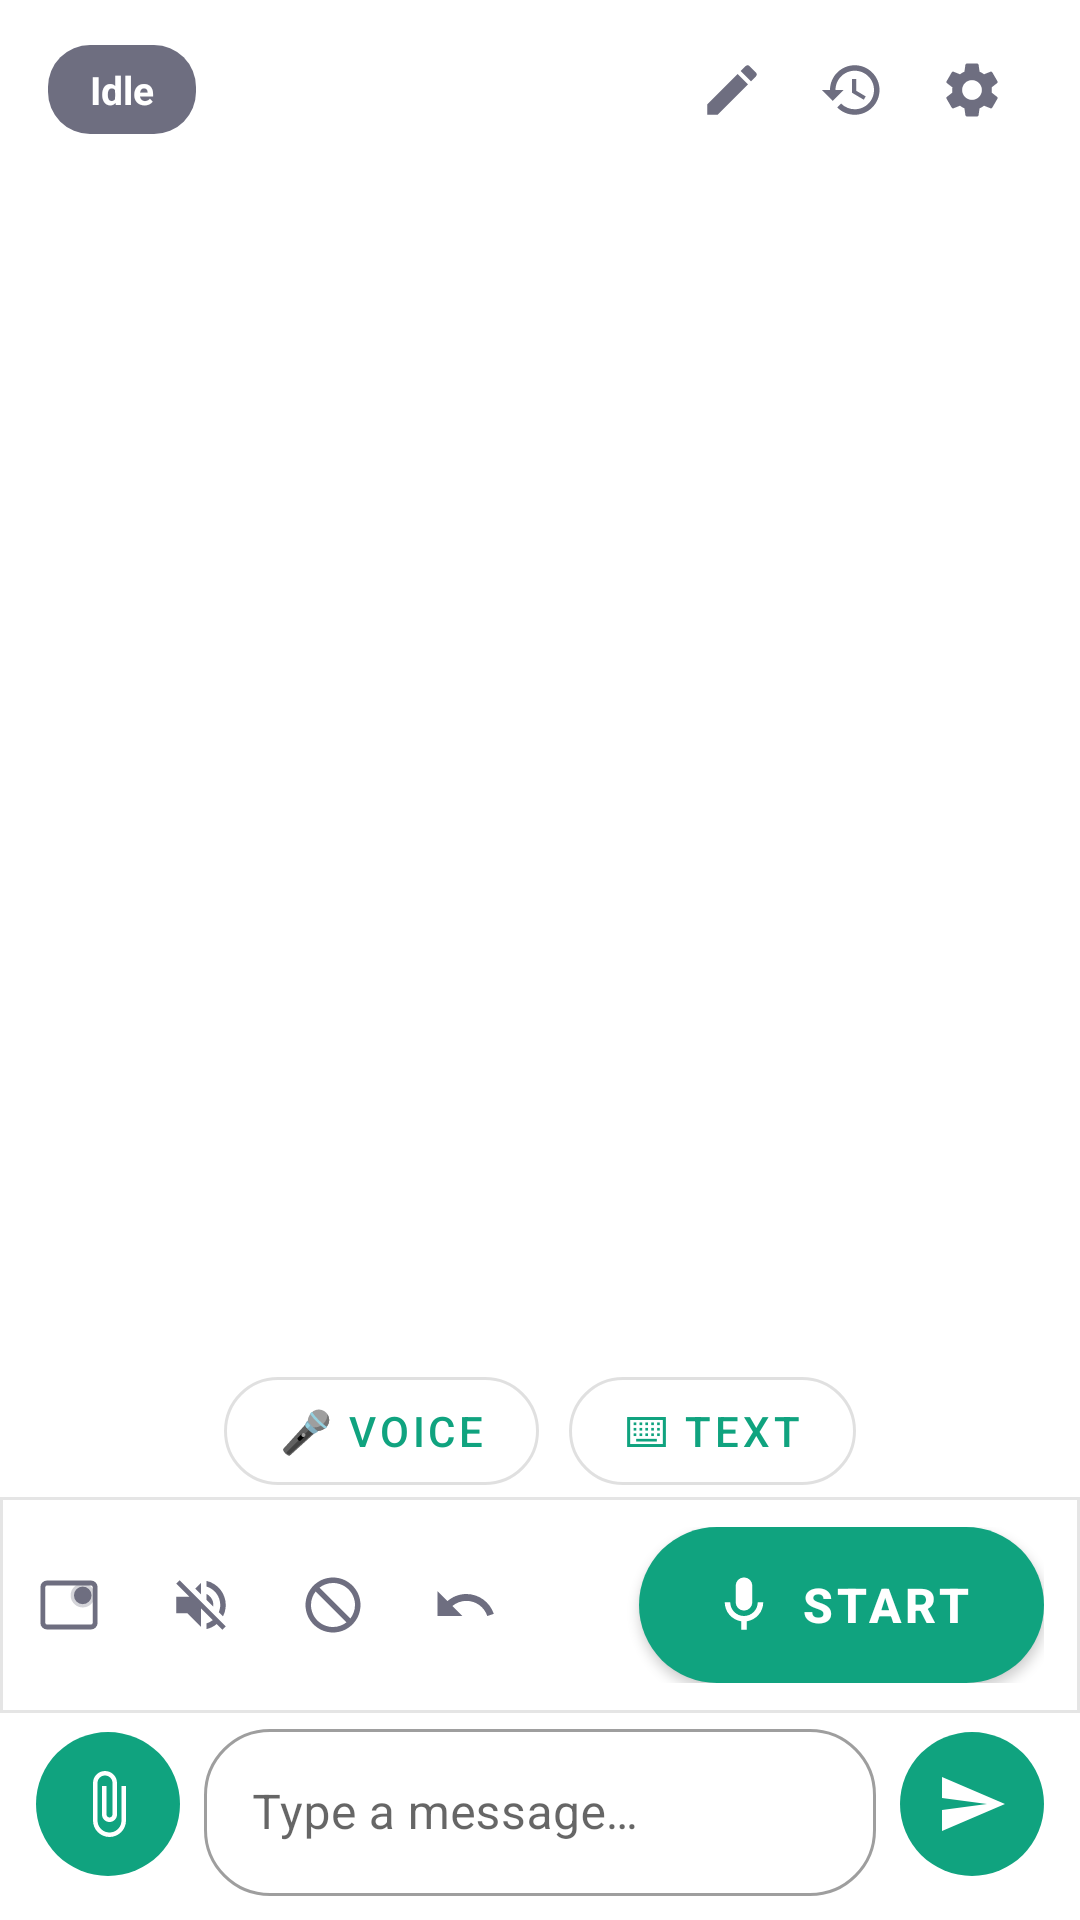

Icon bounding boxes for this 1080×1920 phone screenshot, format (x1, y1, x2, y2):
Attach: (36, 1732, 180, 1876)
floating ball: (40, 1580, 98, 1630)
history: (822, 65, 880, 115)
interrupt: (305, 1577, 361, 1633)
mute: (176, 1580, 226, 1630)
Send: (900, 1732, 1044, 1876)
settings: (946, 63, 998, 117)
undo: (437, 1591, 494, 1616)
